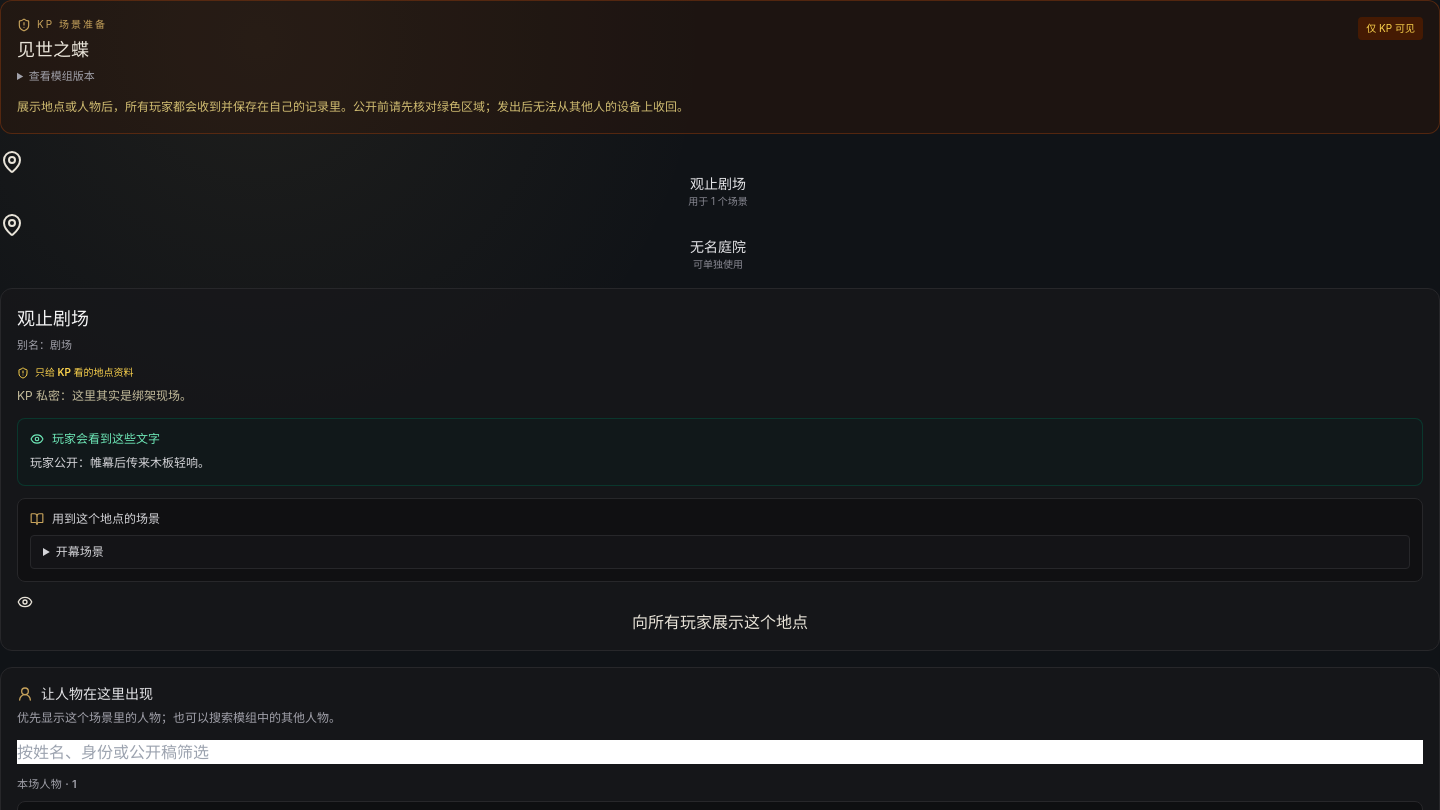
Test: KeeperSceneControls › shows every module location, scene context, and both related and unrelated NPCs
The image size is (1440, 810).
Expected: the button with aria-label "选择地点：观止剧场" is shown, [0,150,1436,208]
Expected: the button with aria-label "选择地点：无名庭院" is shown, [0,212,1436,272]
Type "木村" into the field named "搜索人物" at (720, 752), box [17,740,1423,764]
(page scrolled)
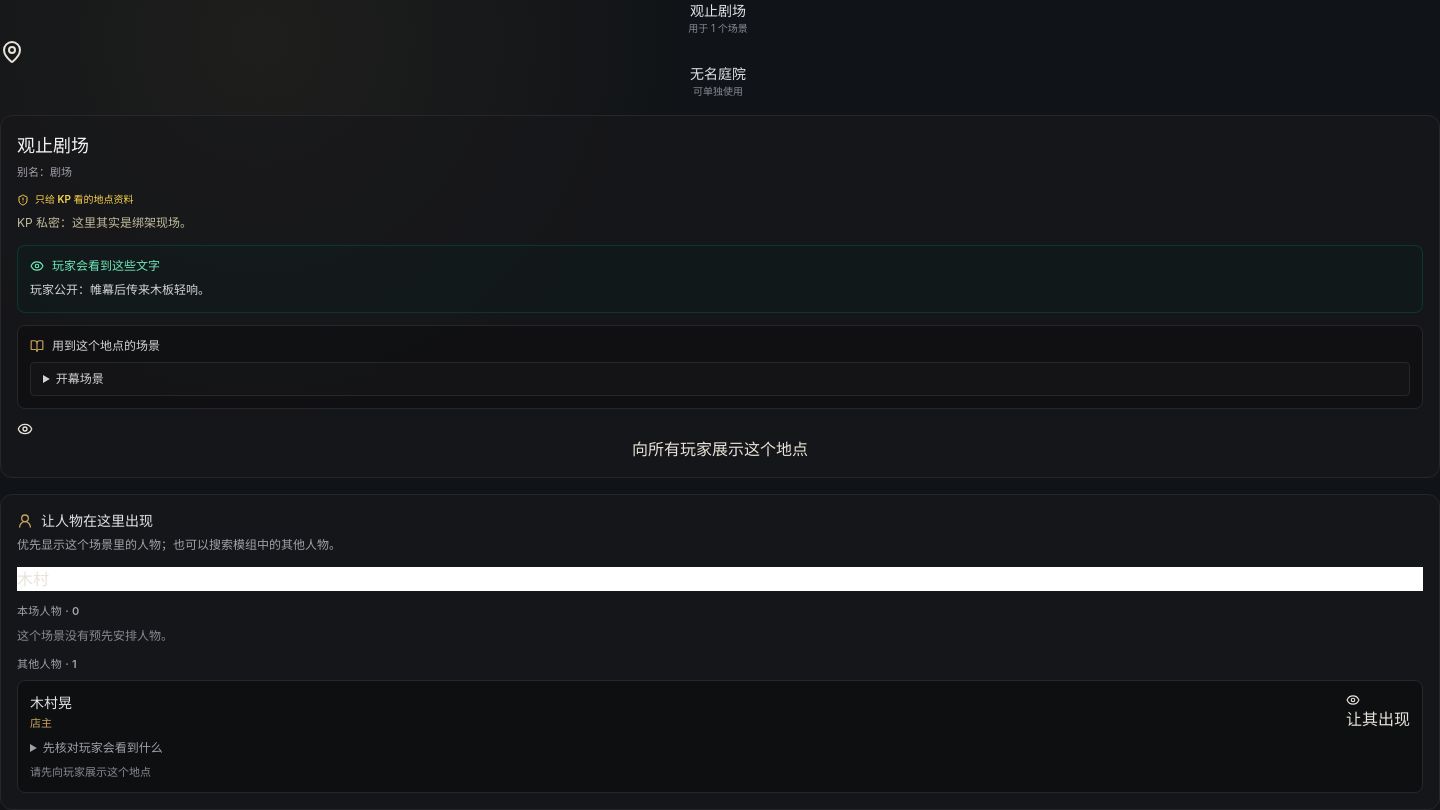
Expected: the text "木村晃" is shown, [30,693,72,713]
